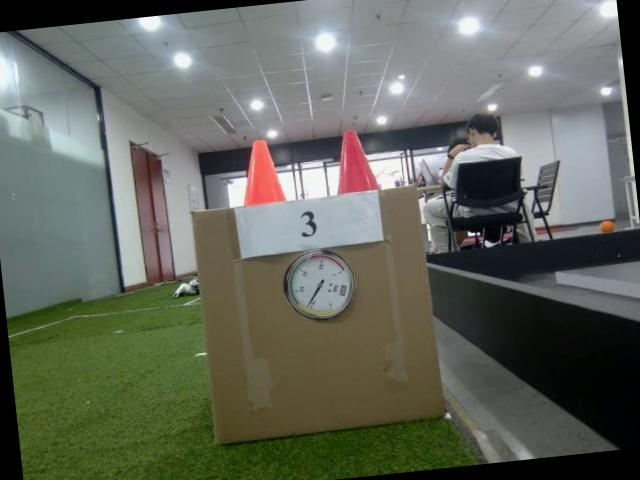3: (300, 210, 318, 240)
Dashboard: (278, 246, 358, 324)
orange_barrel: (234, 134, 289, 208)
red_barrel: (329, 126, 382, 195)
ssi: (338, 282, 348, 298)
